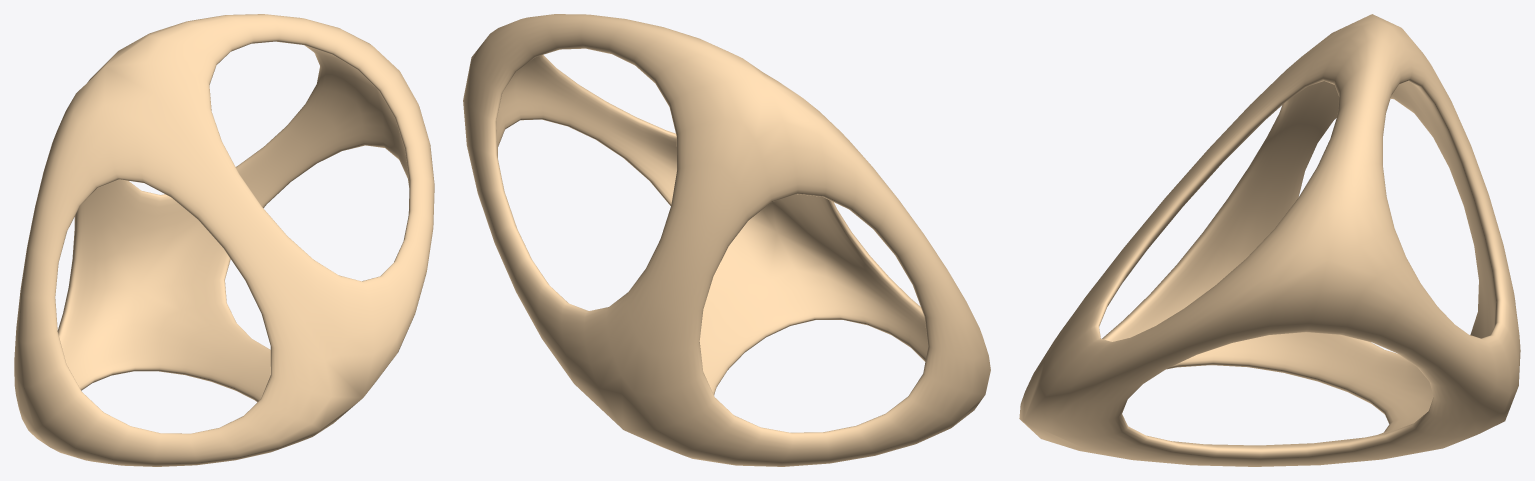
Rendered from Organic1.glb.
3 views of the same model, side by side, from view 1: azimuth 30°, elevation 25°; view 2: azimuth 150°, elevation 25°; view 3: azimuth 270°, elevation 25° (orthographic). The views are drawn at different scales.
Parts seen in each view (by area): view 1: Cube__0; view 2: Cube__0; view 3: Cube__0.
Part boxes in pixels (box(x1,y1,x2,y2)): Cube__0: box(14, 14, 434, 466); Cube__0: box(463, 14, 990, 466); Cube__0: box(1019, 14, 1520, 466).
Size of the model in its own units: 0.874 by 0.7018 by 0.7246.
